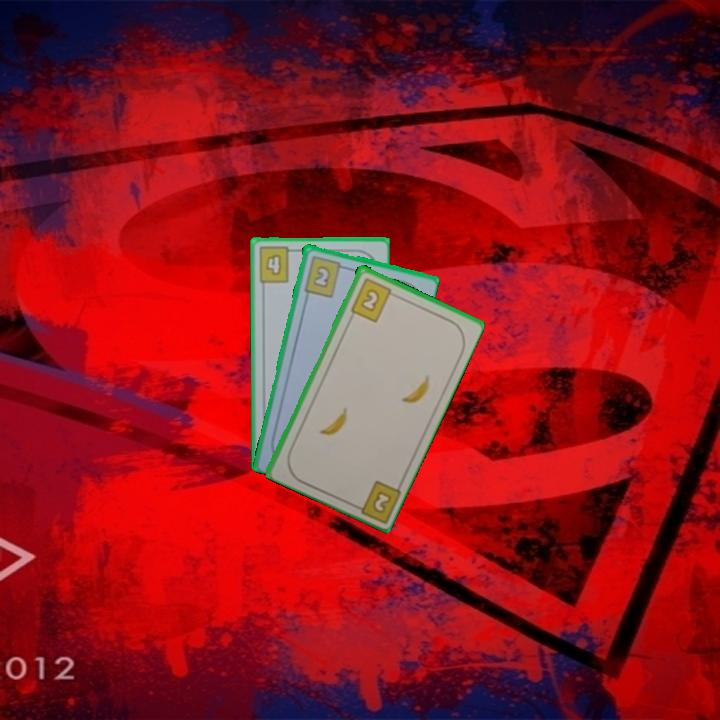2b: (348, 476, 403, 524), (347, 274, 399, 324), (300, 252, 349, 299)
4b: (255, 243, 299, 285)
